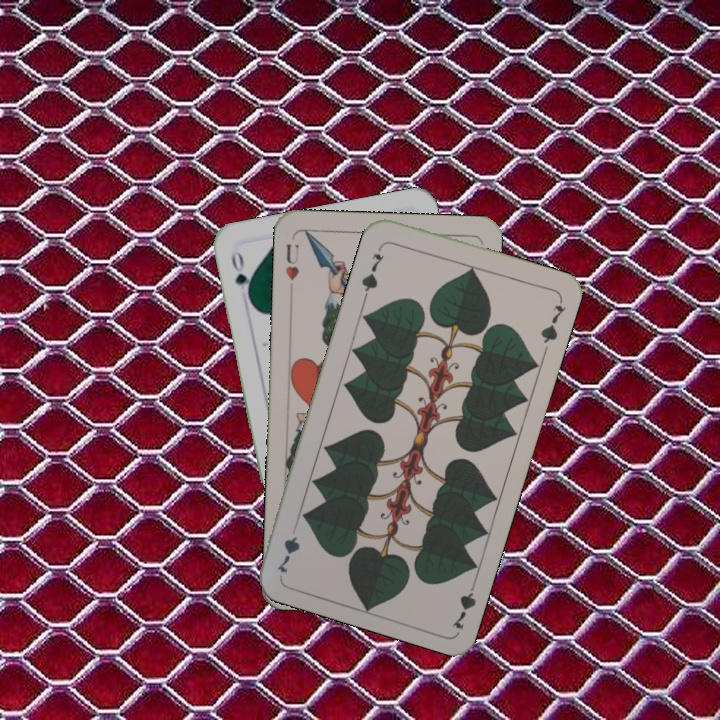G7: (448, 574, 480, 632), (357, 249, 387, 299)
GO: (227, 247, 254, 304)
HU: (281, 240, 302, 283)
